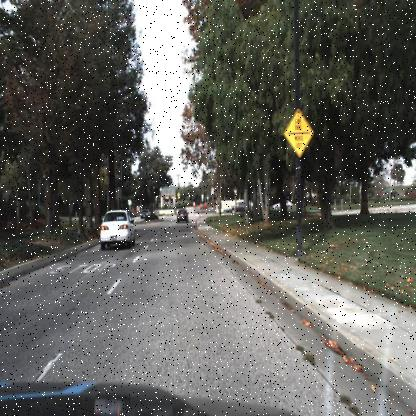car: (98, 208, 134, 248), (174, 206, 189, 223), (139, 208, 150, 219)
